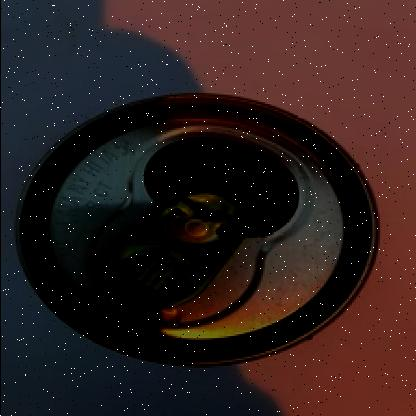Can: (8, 86, 383, 374)
